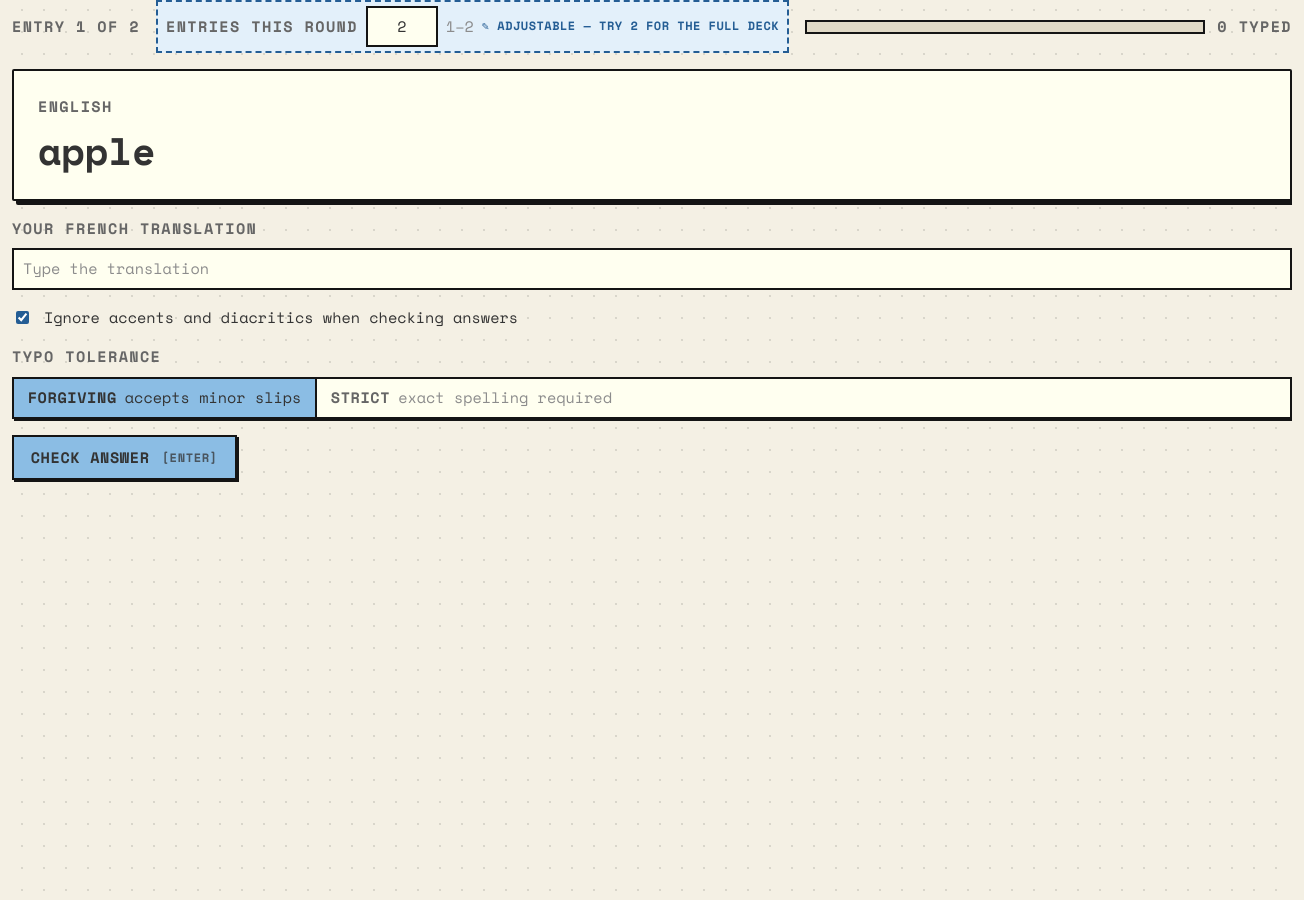
Test case: TypingMode typo tolerance with Damerau-Levenshtein › accepts a near-miss typo when typo tolerance is enabled and displays helpful notice
The image size is (1304, 900).
Step 1. Type "pome" into the field with placeholder "Type the translation" → (652, 269), box [12,248,1292,290]
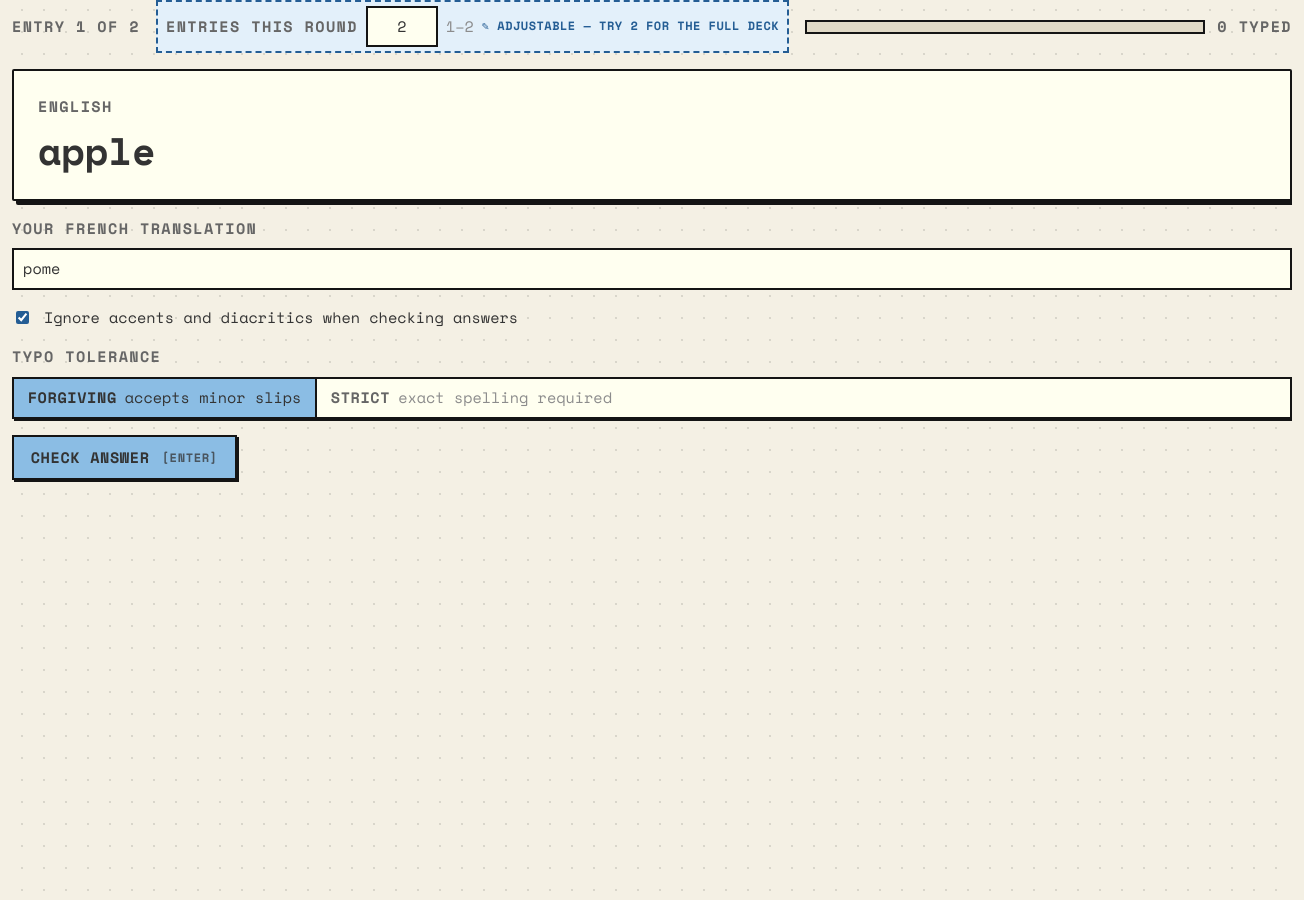
Step 2. Click the button "Check answer [Enter]" → (124, 458), box [12,435,237,480]
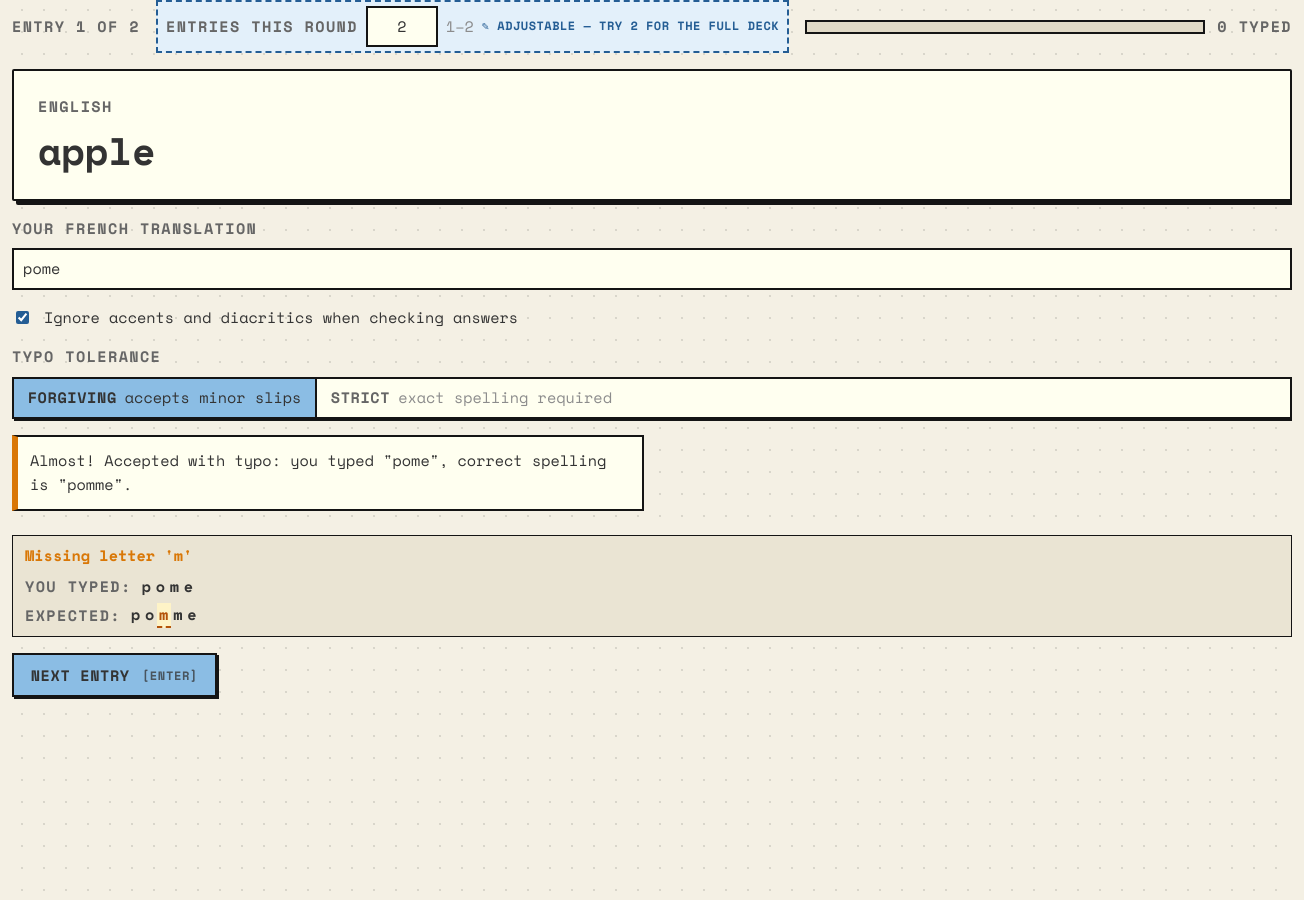
Check: the message shows "Almost! Accepted with typo: you typed \"pome\", correct spelling is \"pomme\"", box [30,449,606,495]
